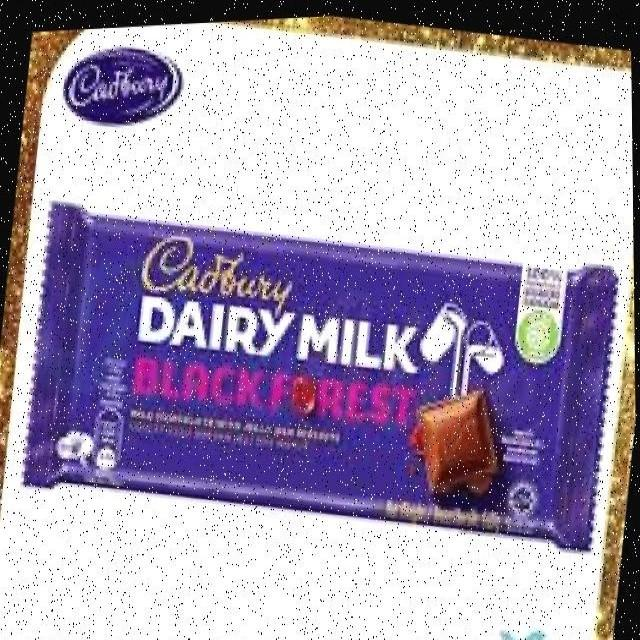cadbury_chocolate: (53, 208, 585, 534)
